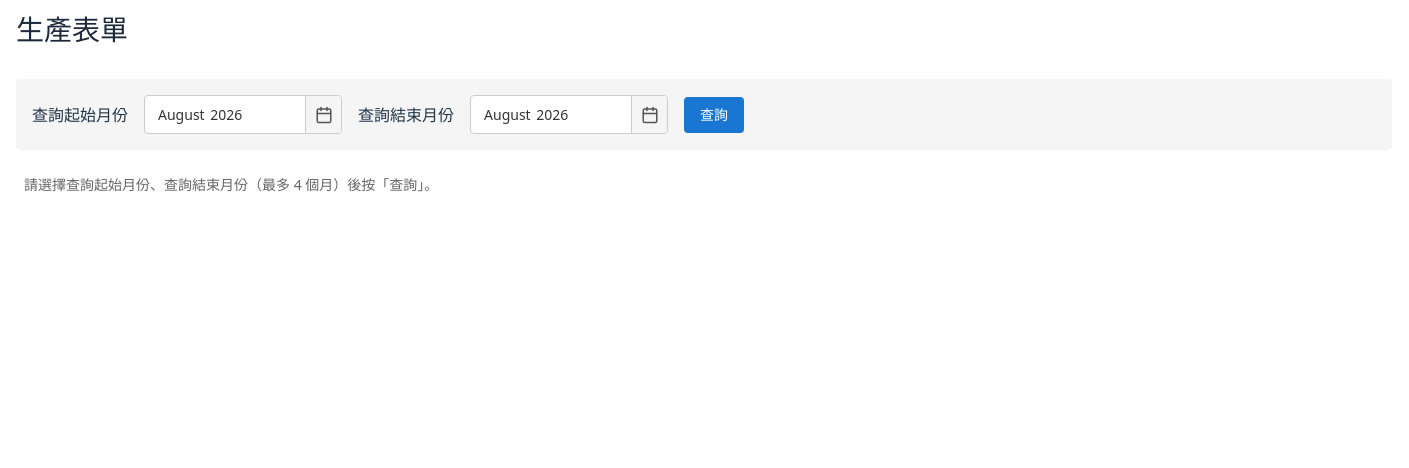
Test case: ProductionPlanPage › calculates total and difference correctly
Click the button "查詢" at (714, 115), box [684,97,744,133]
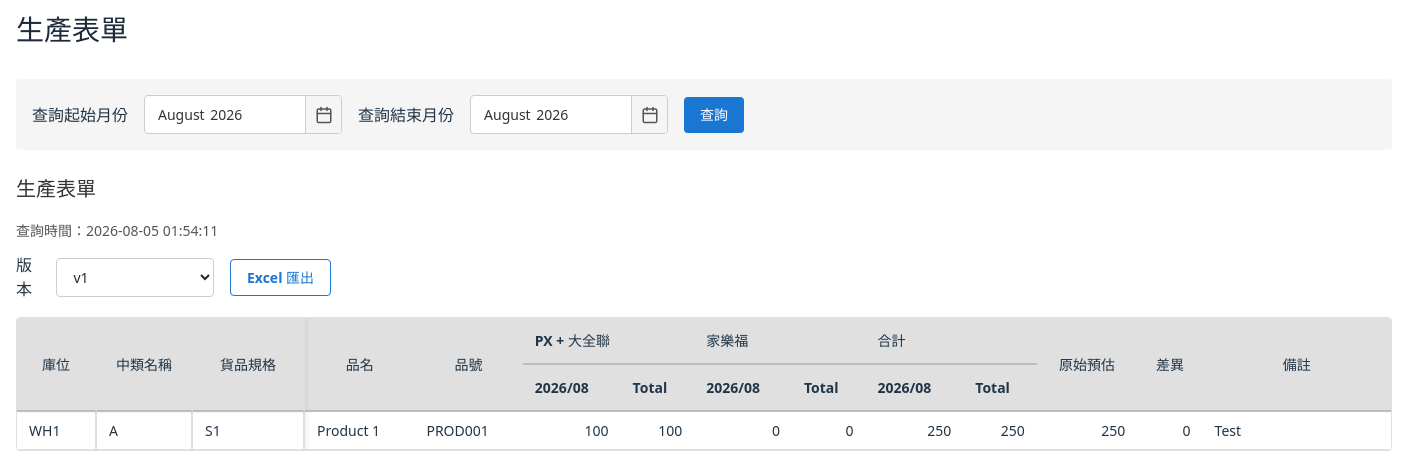
Check: the text "PROD001" is shown, box [414,412,523,450]
Check: the 1st text "250" is shown, box [866,412,963,450]
